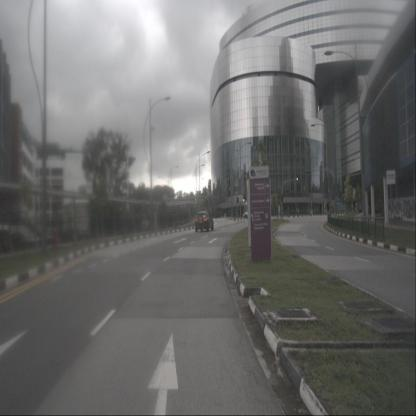vehicle-car: (195, 211, 213, 232), (244, 210, 252, 218)
